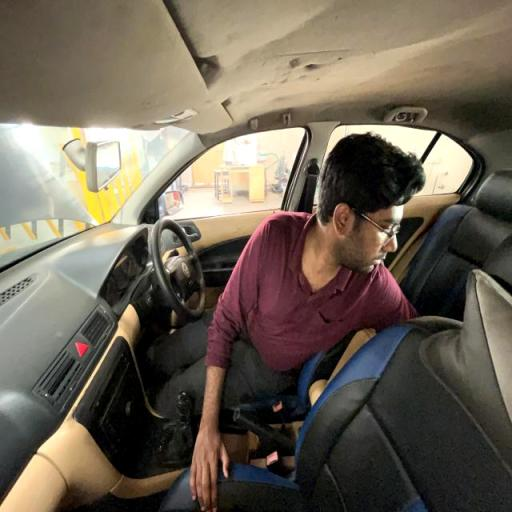Reaching_behind: (164, 128, 430, 391)
